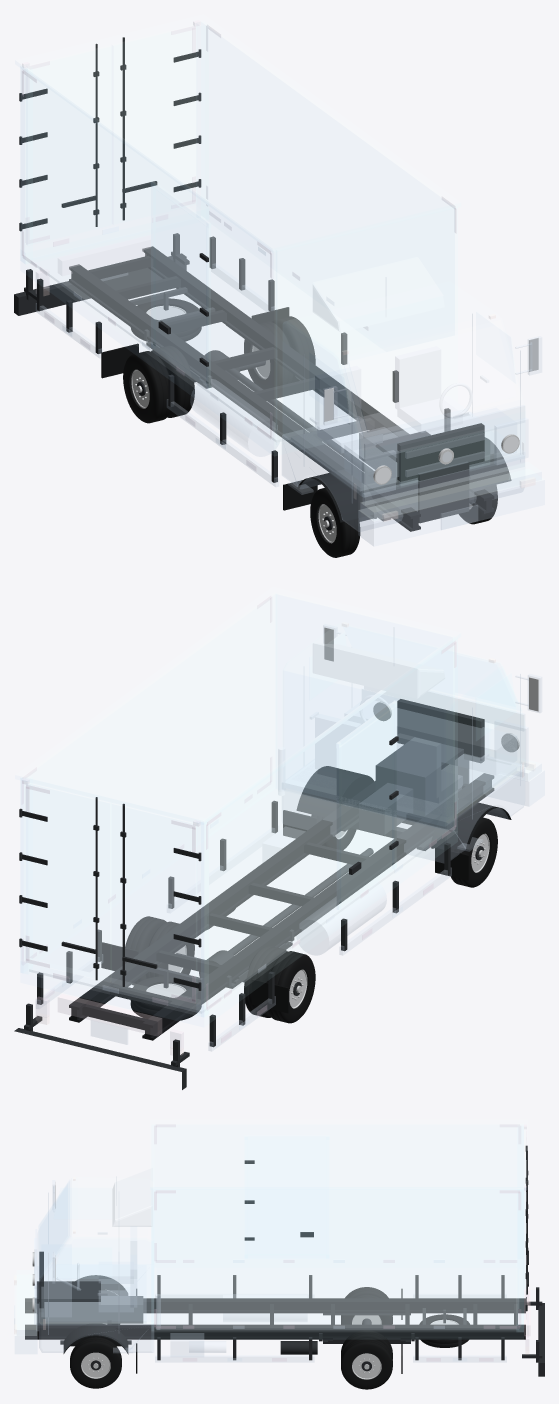
Rendered from vw_delivery_lqg_raiox.glb.
3 renders of one model, top to bottom at view 1: azimuth 30°, elevation 25°; view 2: azimuth 150°, elevation 25°; view 3: azimuth 270°, elevation 25°, orthographic. The views are drawn at different scales.
Visible parts, largest first — view 1: Floor, Cab_Skirt, Tire (×6), Rail_Flange_Top (×2), Front_Bumper, Roof_Deflector, Seat_Back (×2), Crossmember (×6), Rail_Web (×2), Engine, Dashboard, Front_Bumper_Lip (+15 smaller); view 2: Floor, Cab_Skirt, Rail_Flange_Top (×2), Tire (×5), Engine, Dashboard, Crossmember (×6), Rail_Web (×2), Roof_Deflector, Wheel_Arch_Liner (×2), Seat_Back (×2), Radiator (+15 smaller); view 3: Floor, Cab_Skirt, Rail_Flange_Top (×2), Rail_Web (×2), Tire (×5), Cab_Floor, Rail_Flange_Bottom (×2), Engine, Roof_Deflector, Dashboard, Side_Guard (×2), Front_Bumper (+11 smaller).
Part boxes in pixels (left/top/right/bottom): Floor: left=31, top=218, right=384, bottom=442; Cab_Skirt: left=282, top=396, right=524, bottom=531; Tire (×6): left=123, top=298, right=360, bottom=557; Rail_Flange_Top (×2): left=69, top=246, right=494, bottom=519; Front_Bumper: left=358, top=469, right=544, bottom=546; Roof_Deflector: left=313, top=257, right=444, bottom=331; Seat_Back (×2): left=315, top=346, right=440, bottom=430; Crossmember (×6): left=88, top=256, right=374, bottom=441; Rail_Web (×2): left=71, top=253, right=491, bottom=529; Engine: left=375, top=431, right=469, bottom=523; Dashboard: left=344, top=408, right=516, bottom=484; Front_Bumper_Lip: left=360, top=462, right=541, bottom=520; Floor: left=29, top=788, right=448, bottom=1013; Cab_Skirt: left=282, top=754, right=524, bottom=862; Rail_Flange_Top (×2): left=69, top=773, right=493, bottom=1027; Tire (×5): left=125, top=817, right=497, bottom=1023; Engine: left=375, top=737, right=468, bottom=816; Dashboard: left=345, top=701, right=516, bottom=774; Crossmember (×6): left=82, top=842, right=368, bottom=1030; Rail_Web (×2): left=71, top=780, right=491, bottom=1038; Roof_Deflector: left=313, top=644, right=444, bottom=697; Wheel_Arch_Liner (×2): left=296, top=766, right=511, bottom=852; Seat_Back (×2): left=315, top=714, right=440, bottom=797; Radiator: left=397, top=699, right=484, bottom=762; Floor: left=156, top=1267, right=518, bottom=1329; Cab_Skirt: left=39, top=1264, right=153, bottom=1352; Rail_Flange_Top (×2): left=25, top=1298, right=525, bottom=1330; Rail_Web (×2): left=25, top=1304, right=525, bottom=1336; Tire (×5): left=70, top=1294, right=469, bottom=1389; Cab_Floor: left=45, top=1265, right=146, bottom=1322; Rail_Flange_Bottom (×2): left=25, top=1310, right=525, bottom=1339; Engine: left=36, top=1281, right=100, bottom=1324; Roof_Deflector: left=112, top=1168, right=152, bottom=1226; Dashboard: left=41, top=1244, right=71, bottom=1316; Side_Guard (×2): left=155, top=1355, right=506, bottom=1362; Front_Bumper: left=15, top=1275, right=37, bottom=1353.
Bounding box in the file's own units: 2.72 × 3.4 × 7.84.
